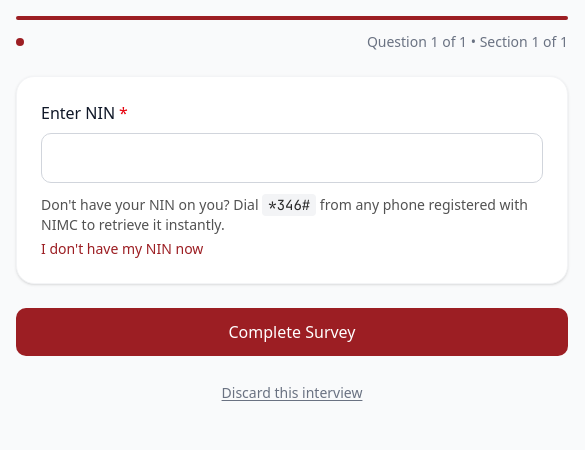
it: FormFillerPage › modulus11 NIN validation › shows modulus11 error for non-11-digit string
Type "12345" into the field with test id "input-nin". click: (292, 158)
box: [41, 133, 543, 183]
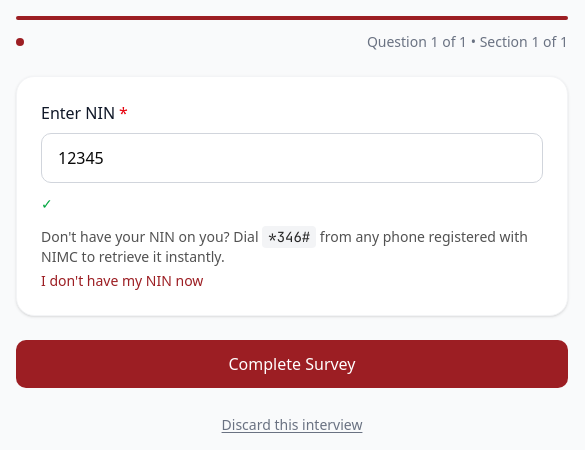
Click the button with test id "continue-btn". click: (292, 364)
box: [16, 340, 568, 388]
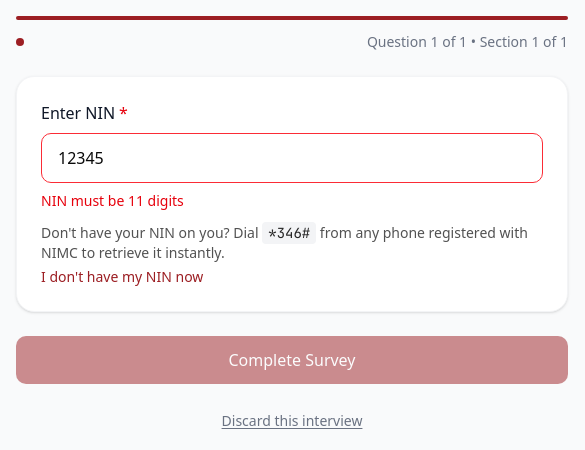
Expected: the message reads "NIN must be 11 digits", [41, 191, 184, 210]
